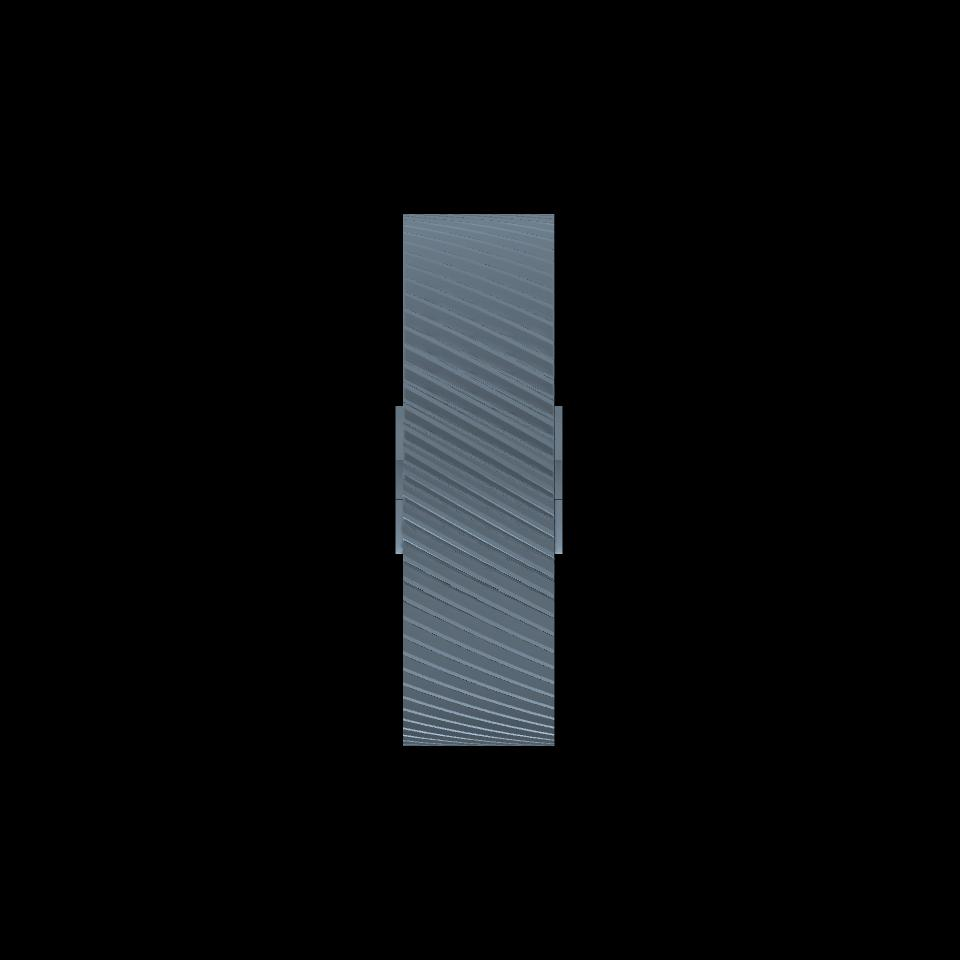Helical: (404, 214, 554, 744)
